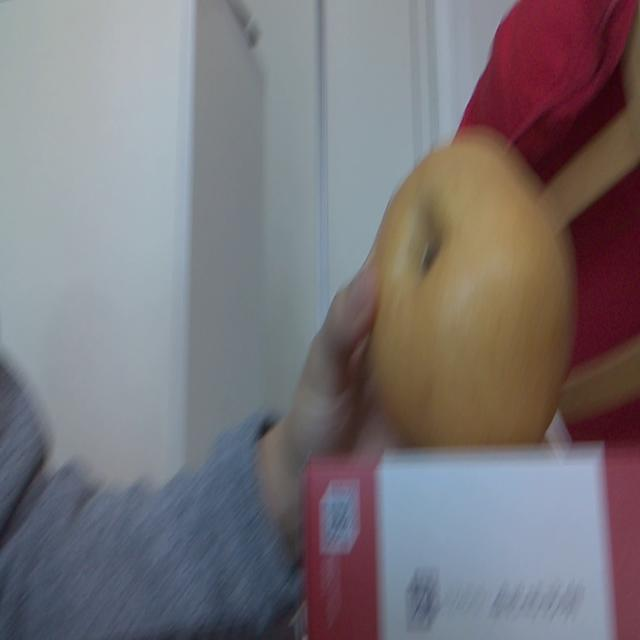pear: (366, 130, 580, 448)
